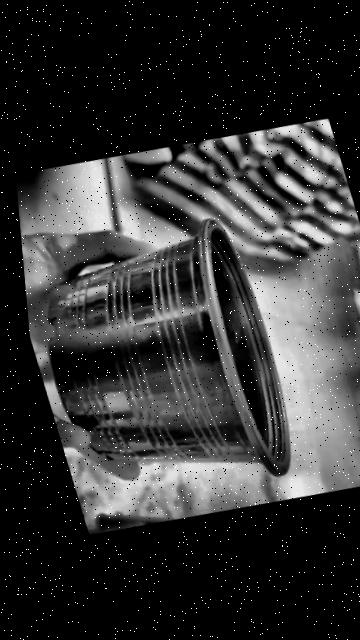pot: (18, 206, 313, 516)
